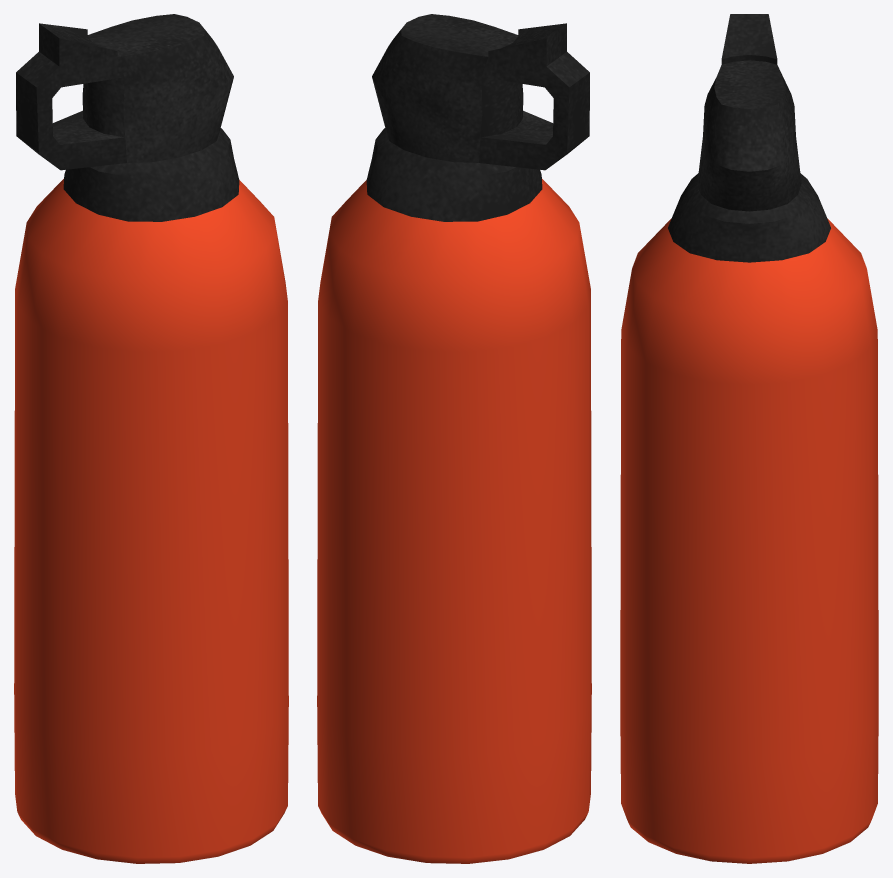
Rendered from SM_BearSpray.fbx.
3 views of the same model, side by side, from view 1: azimuth 30°, elevation 25°; view 2: azimuth 150°, elevation 25°; view 3: azimuth 270°, elevation 25° (orthographic). The views are drawn at different scales.
Parts seen in each view (by area): view 1: BearSpray; view 2: BearSpray; view 3: BearSpray.
Part boxes in pixels (x1,y1,x2,y2): BearSpray: (14,14,288,863); BearSpray: (317,14,591,863); BearSpray: (620,14,878,863).
Bounding box in the file's own units: 11.76 × 36.97 × 11.49.
